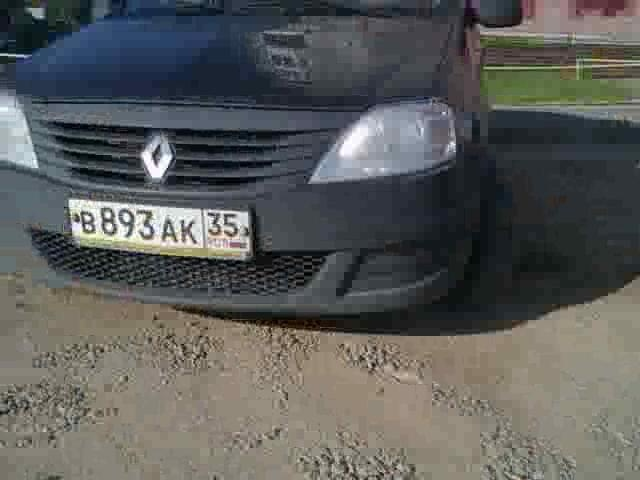car license plate: (66, 199, 254, 265)
